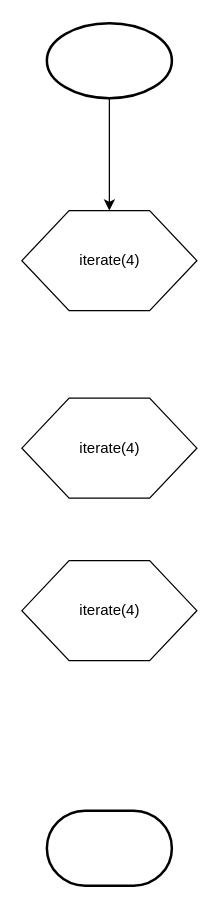
Some shapes in this 219 by 908 pixel diagram are drawn without their labels. Each missing label, with the centre of its shape:
"Fin" belongs at (108,847).
"inicio" belongs at (108,60).
